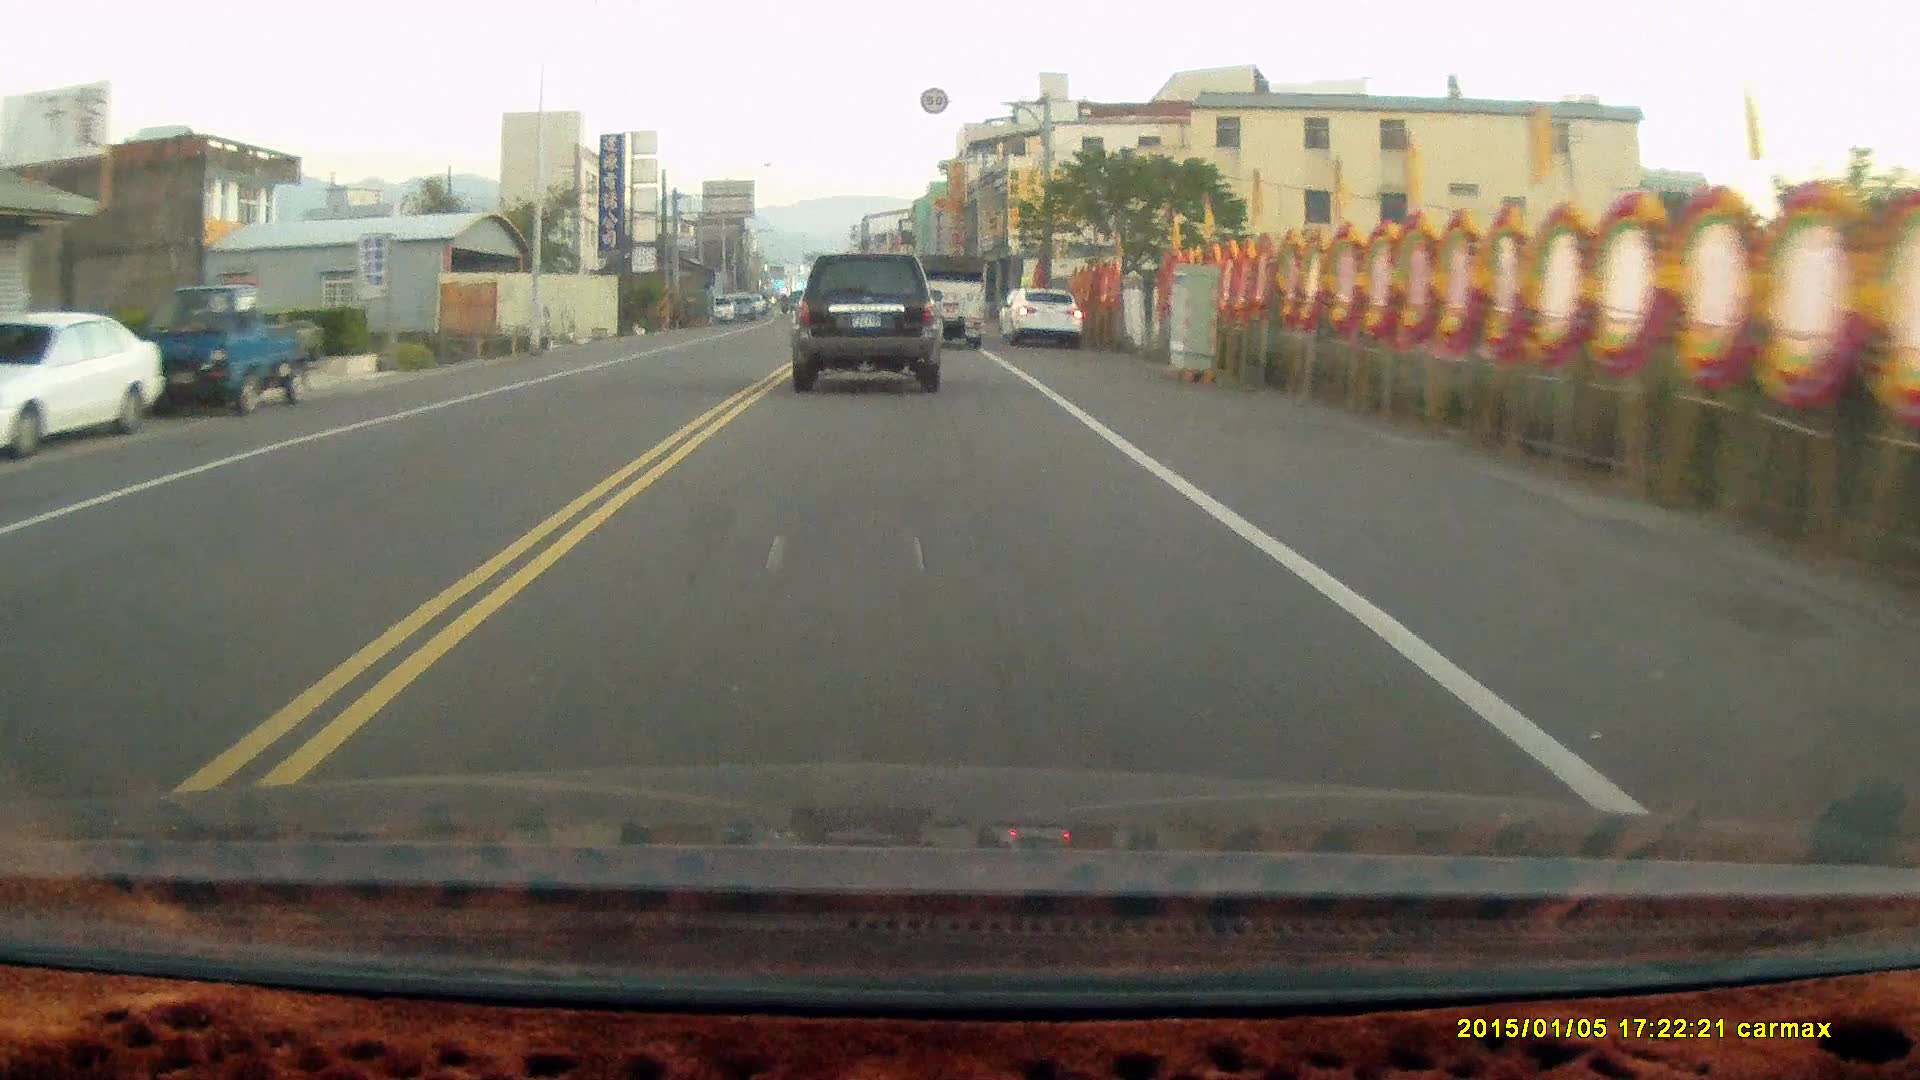vehicle: (135, 284, 320, 421), (1, 310, 164, 448), (793, 257, 943, 400), (913, 252, 990, 349), (1005, 286, 1087, 349)
